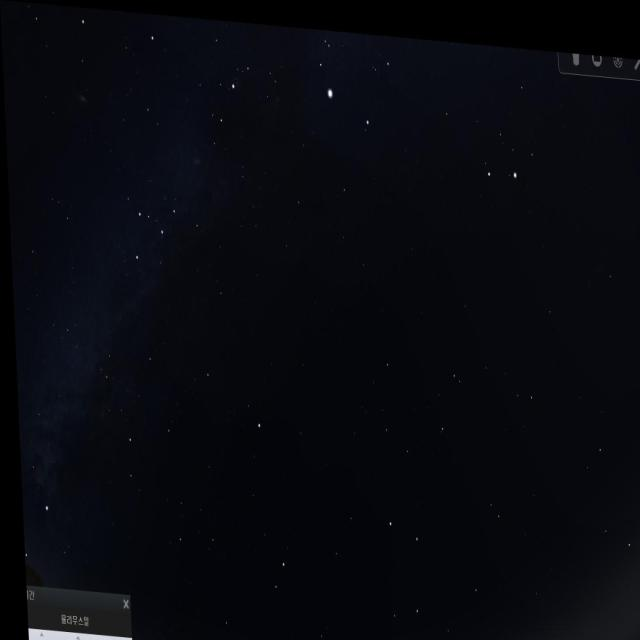cassiopeia: (132, 185, 202, 278)
